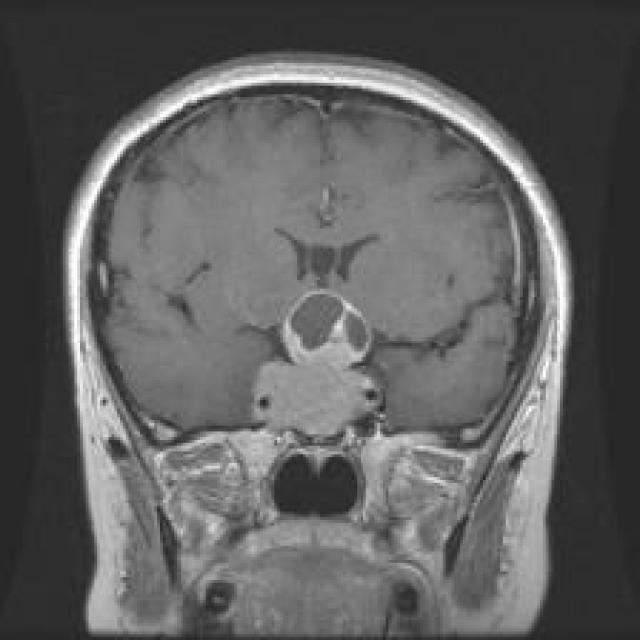pituitary_tumor: (272, 281, 384, 376)
